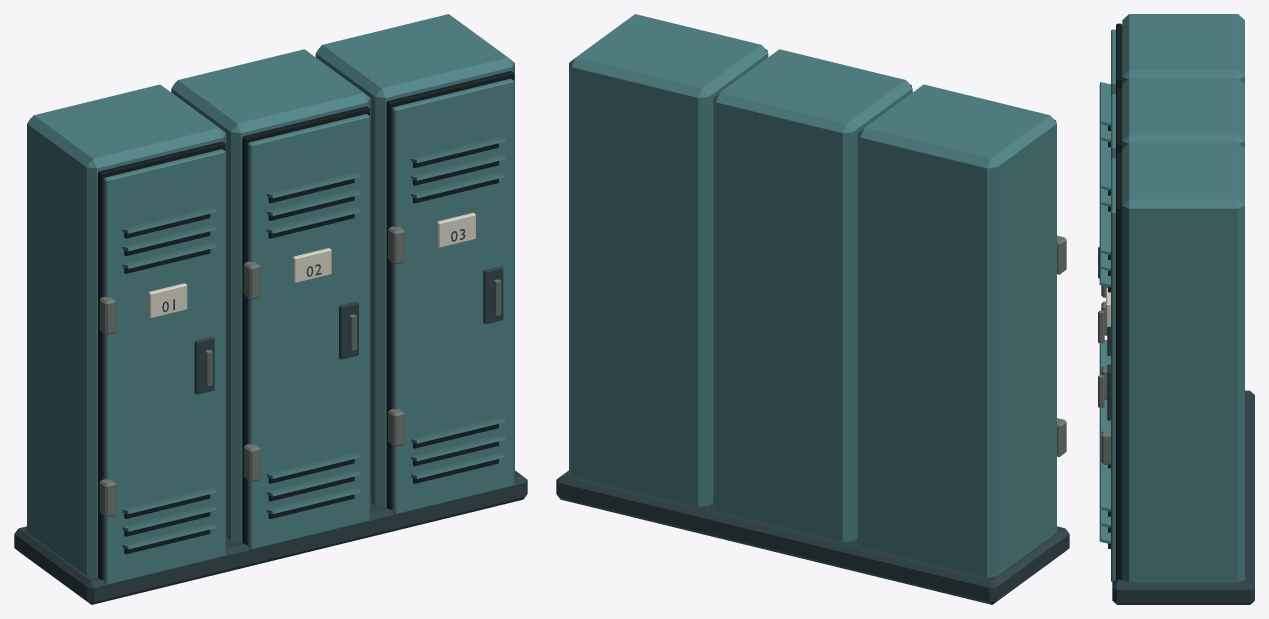
File: locker-bank.glb
3 views of the same model, side by side, from view 1: azimuth 30°, elevation 25°; view 2: azimuth 150°, elevation 25°; view 3: azimuth 270°, elevation 25° (orthographic). The views are drawn at different scales.
Visible parts, largest first — view 1: locker-bank__locker-bank__petrol, locker-bank__locker-bank__rubber, locker-bank__locker-bank__steel, locker-bank__locker-bank__hardware, locker-bank__locker-bank__ivory; view 2: locker-bank__locker-bank__petrol, locker-bank__locker-bank__steel, locker-bank__locker-bank__hardware; view 3: locker-bank__locker-bank__petrol, locker-bank__locker-bank__steel, locker-bank__locker-bank__rubber, locker-bank__locker-bank__hardware.
Boxes of the visible parts, box(x1,y1,x2,y2) form: locker-bank__locker-bank__petrol: box(27, 14, 514, 584); locker-bank__locker-bank__rubber: box(98, 71, 514, 580); locker-bank__locker-bank__steel: box(14, 229, 527, 604); locker-bank__locker-bank__hardware: box(99, 226, 501, 517); locker-bank__locker-bank__ivory: box(148, 212, 475, 318); locker-bank__locker-bank__petrol: box(569, 14, 1056, 577); locker-bank__locker-bank__steel: box(556, 470, 1069, 604); locker-bank__locker-bank__hardware: box(1057, 235, 1066, 456); locker-bank__locker-bank__petrol: box(1099, 14, 1244, 582); locker-bank__locker-bank__steel: box(1107, 326, 1254, 604); locker-bank__locker-bank__rubber: box(1108, 23, 1122, 579); locker-bank__locker-bank__hardware: box(1098, 246, 1110, 464).
Bounding box in the file's own units: 2.35 × 2.24 × 0.792.
